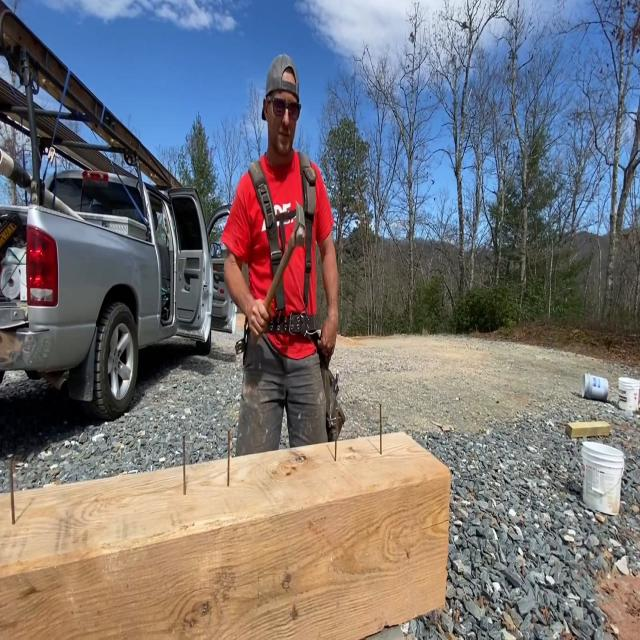hammer: (258, 197, 308, 319)
